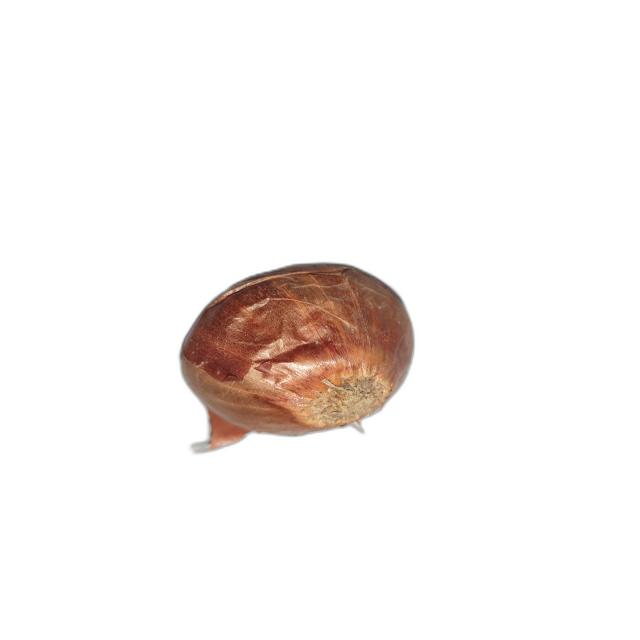onion: (180, 262, 414, 450)
